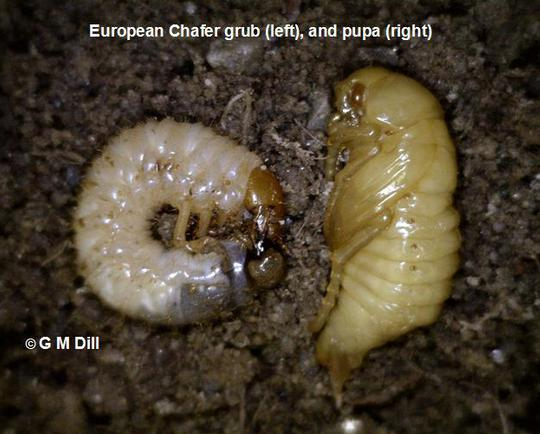grub: (323, 57, 485, 393)
